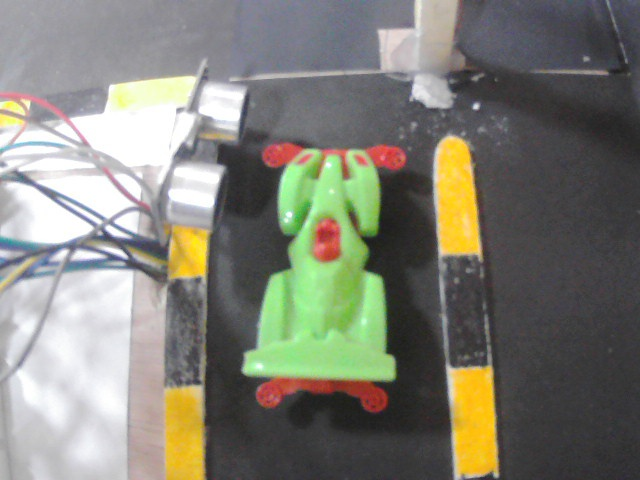car: (231, 132, 416, 420)
uno_breadboard: (143, 70, 225, 257)
